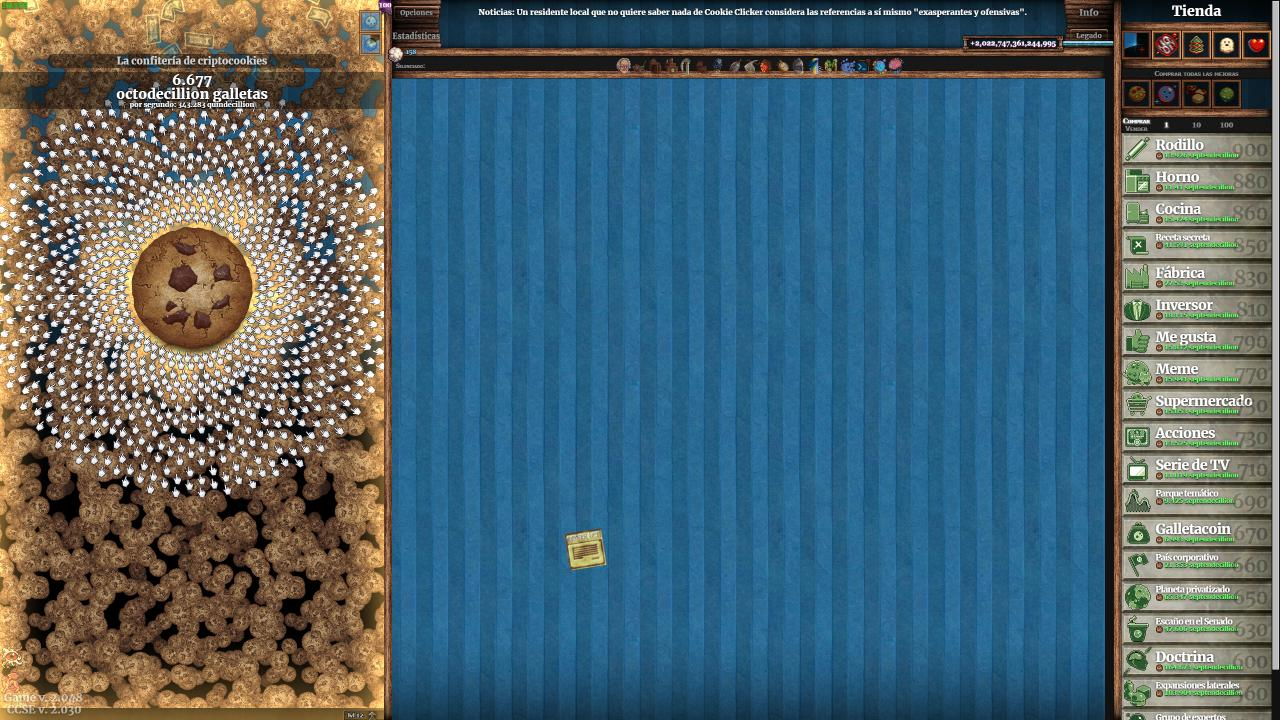GoldenCartridge: (564, 526, 608, 572)
